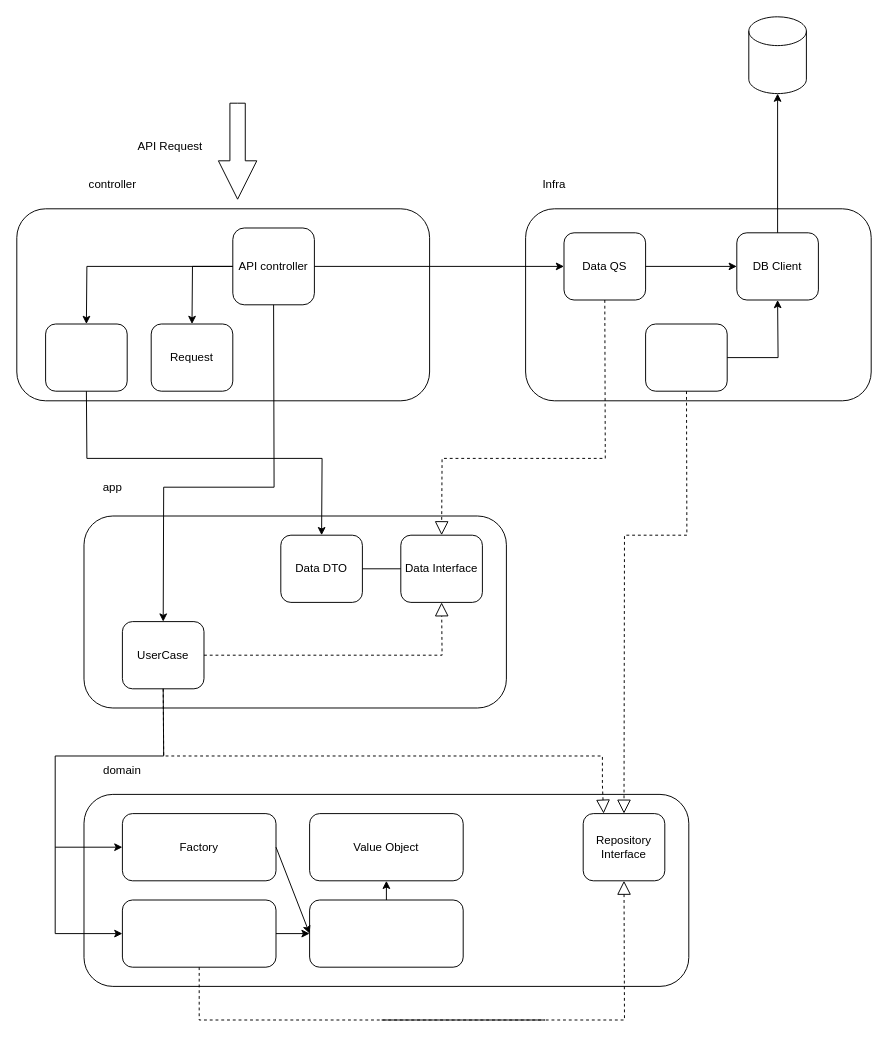
The diagram is 888 pixels wide and 1050 high, and some of its shapes have lost their labels. Here are the shapes that lost their labels. From the top down, the centre of each, then its label:
point 777,55: DB
point 86,357: Response
point 686,357: Repository
point 198,933: Service
point 386,933: Entity
